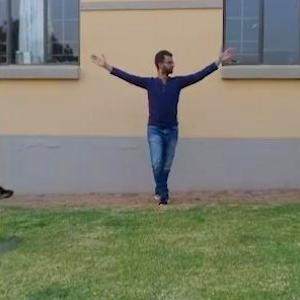takeoff: (103, 35, 260, 213)
